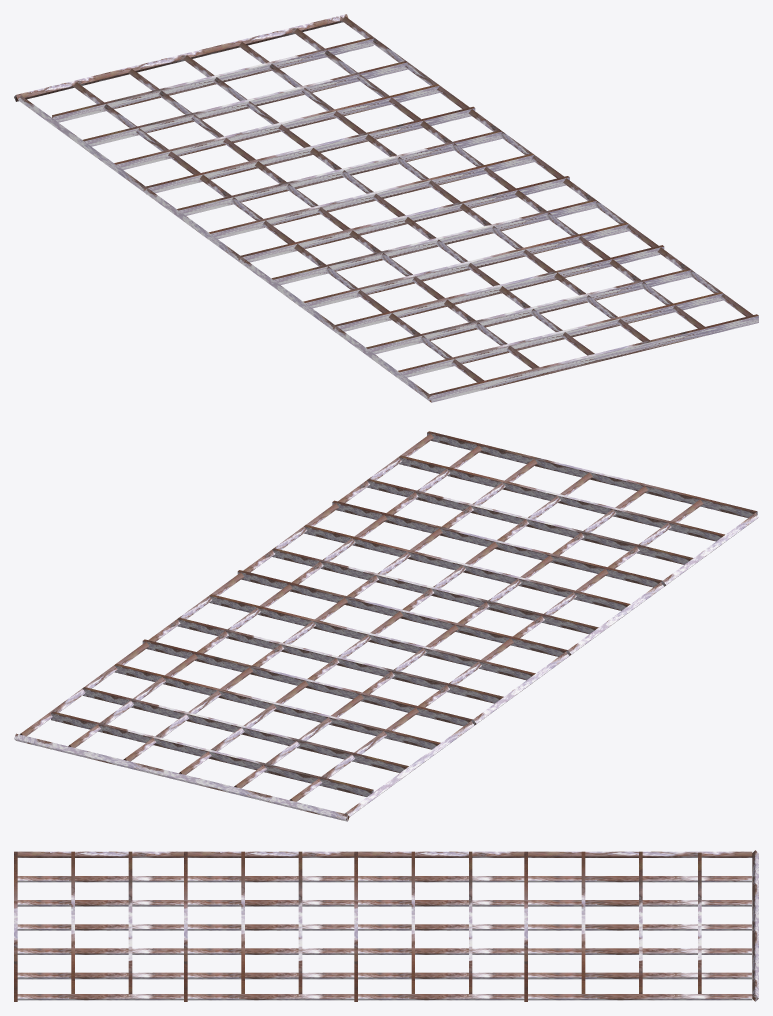
Rendered from freezer_floorcage.obj.
3 views of the same model, one above another, from view 1: azimuth 30°, elevation 25°; view 2: azimuth 150°, elevation 25°; view 3: azimuth 270°, elevation 25° (orthographic). The views are drawn at different scales.
Visible parts, largest first — view 1: freezer_floorcage; view 2: freezer_floorcage; view 3: freezer_floorcage.
Boxes of the visible parts, left/top/right/bottom form: freezer_floorcage: left=14, top=14, right=758, bottom=402; freezer_floorcage: left=14, top=431, right=758, bottom=821; freezer_floorcage: left=14, top=850, right=758, bottom=1001.
Size of the model in its own units: 384 by 8 by 832.
1 material, 1 textured.
